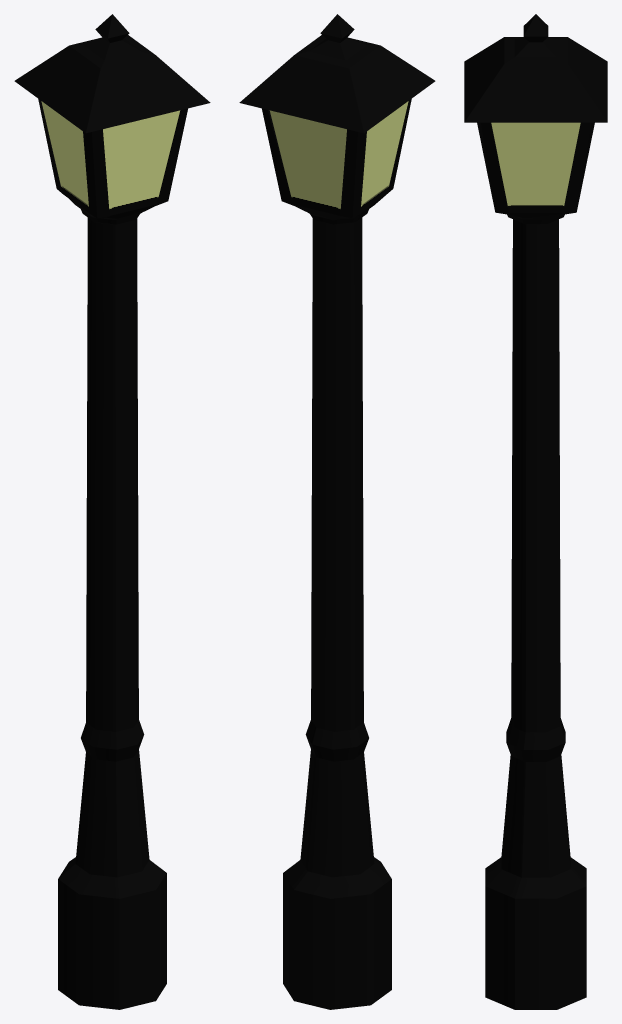
File: lampadaire.fbx
3 views of the same model, side by side, from view 1: azimuth 30°, elevation 25°; view 2: azimuth 150°, elevation 25°; view 3: azimuth 270°, elevation 25° (orthographic).
Visible parts, largest first — view 1: pCylinder1; view 2: pCylinder1; view 3: pCylinder1.
Part boxes in pixels (x1,y1,x2,y2): pCylinder1: (14, 14, 210, 1009); pCylinder1: (239, 14, 435, 1009); pCylinder1: (464, 14, 607, 1009).
Size of the model in its own units: 2.24 by 16.69 by 2.22.
